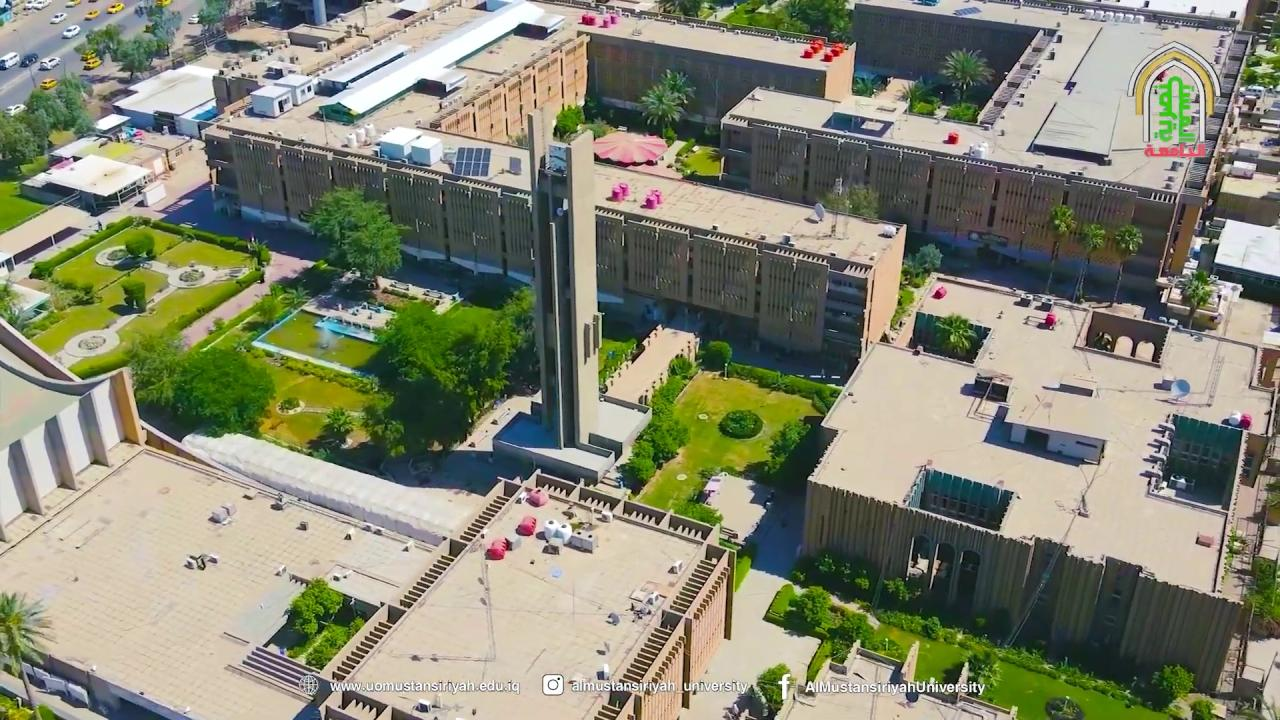car: (3, 104, 27, 118), (39, 56, 60, 71), (61, 24, 80, 39), (106, 1, 125, 14), (50, 12, 67, 24), (40, 78, 57, 90), (83, 10, 99, 20), (188, 13, 200, 24)
fountain: (314, 314, 379, 343)
tree: (356, 294, 524, 459), (122, 328, 276, 436), (298, 185, 412, 285), (0, 73, 93, 171), (82, 4, 182, 81), (0, 589, 57, 677), (889, 242, 943, 332), (629, 397, 690, 474), (342, 213, 408, 284), (298, 186, 363, 254), (638, 68, 696, 141), (818, 181, 879, 238), (287, 576, 343, 636), (719, 1, 810, 37), (939, 46, 994, 105), (1240, 553, 1279, 635), (245, 281, 310, 329), (1043, 202, 1076, 294), (358, 394, 404, 456), (1071, 221, 1106, 302), (1108, 223, 1142, 306), (779, 0, 851, 39), (763, 418, 810, 475), (1174, 268, 1214, 328), (0, 113, 39, 172), (597, 337, 637, 394), (115, 31, 158, 80), (788, 584, 833, 629), (933, 312, 976, 356), (962, 649, 1001, 697), (144, 6, 181, 56), (755, 662, 791, 710), (18, 106, 53, 155), (658, 68, 696, 111), (1150, 663, 1194, 700), (670, 498, 723, 528), (1219, 525, 1245, 586), (623, 440, 656, 486), (84, 22, 123, 60), (320, 405, 357, 442), (718, 408, 762, 439), (553, 101, 585, 143), (897, 78, 933, 114), (844, 183, 880, 219), (251, 290, 286, 327), (1241, 61, 1279, 93), (890, 287, 916, 332), (1079, 221, 1106, 263), (883, 576, 922, 604), (196, 0, 229, 33), (701, 340, 732, 374), (913, 242, 943, 277), (672, 138, 698, 177), (1049, 203, 1076, 240), (122, 227, 154, 258), (1262, 476, 1280, 526), (1045, 695, 1082, 719), (120, 276, 146, 310), (278, 284, 310, 311), (246, 234, 270, 269), (853, 73, 884, 98), (667, 352, 695, 379)
